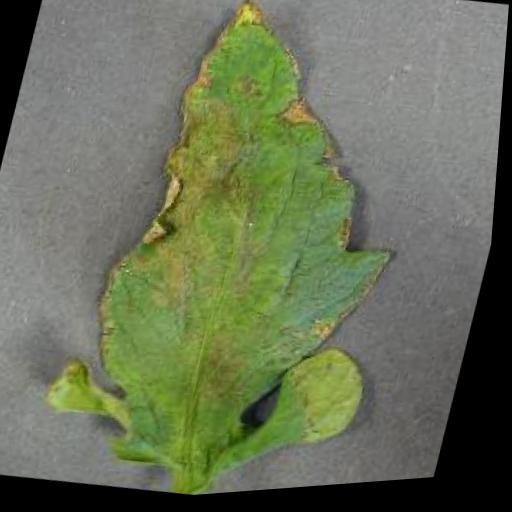Bacterial Spot: (35, 0, 459, 508)
